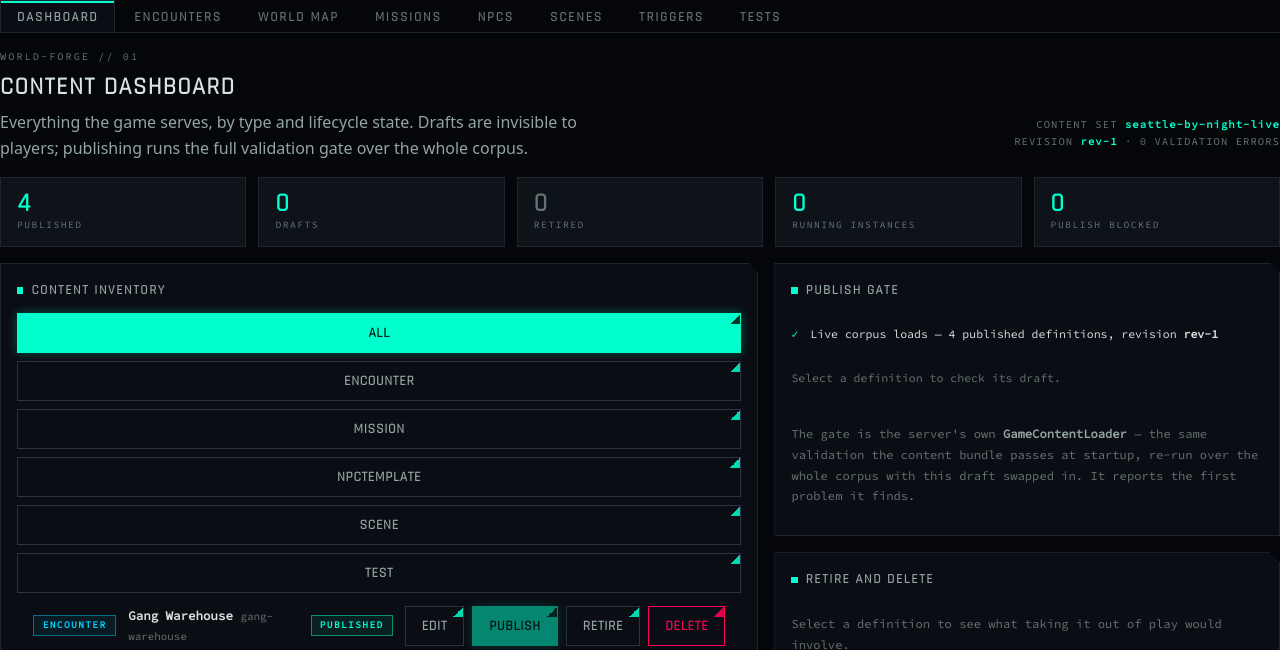
Scenario: Scene editor › flags a node nothing can reach, the way the publish gate would
Expected: the text "Gang Warehouse" is shown, [128, 608, 233, 623]
Click the tab "Scenes" at coordinates (577, 16), box [533, 0, 620, 32]
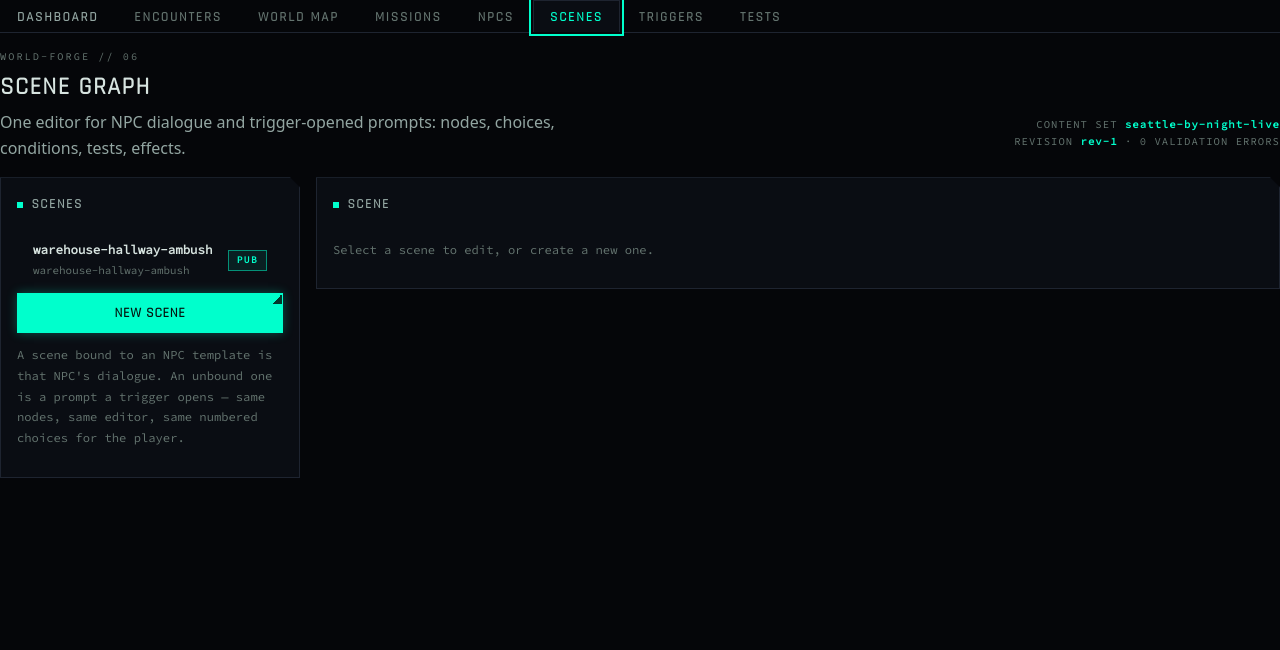
Click the button "warehouse-hallway-ambush" at coordinates (124, 260), box [33, 236, 216, 284]
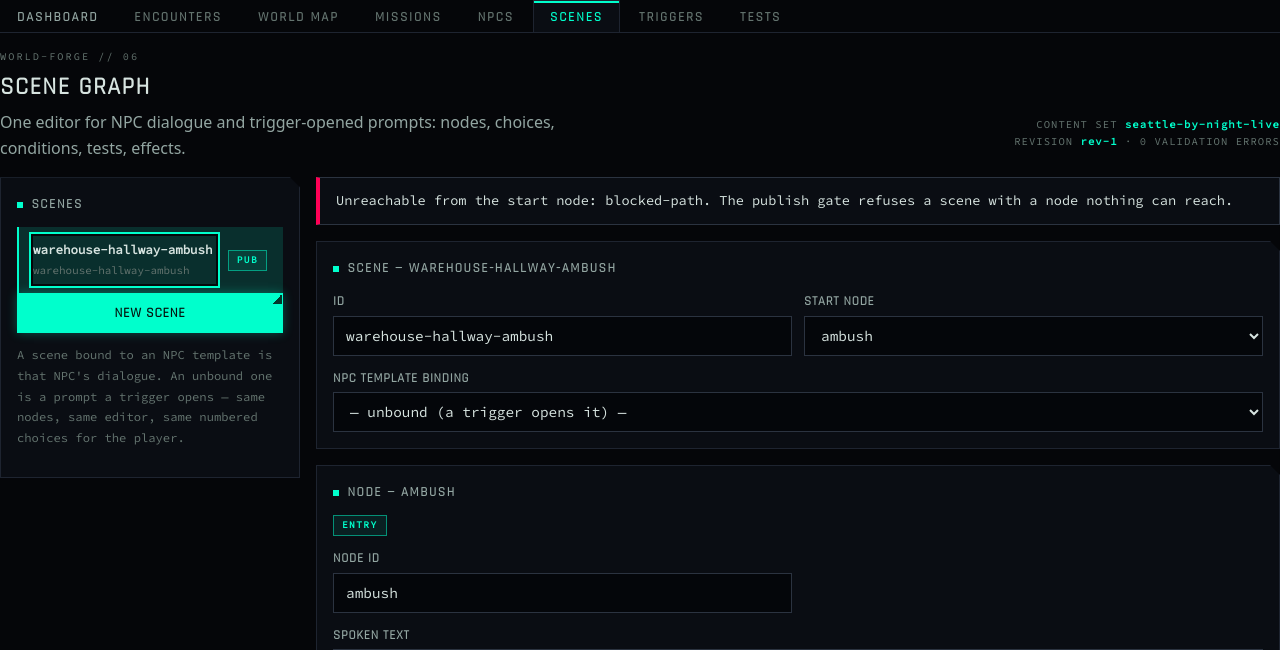
Expected: the message shows "Unreachable from the start node: blocked-path", [316, 177, 1279, 225]
Expected: the text "ENTRY" is shown, [333, 515, 386, 536]
